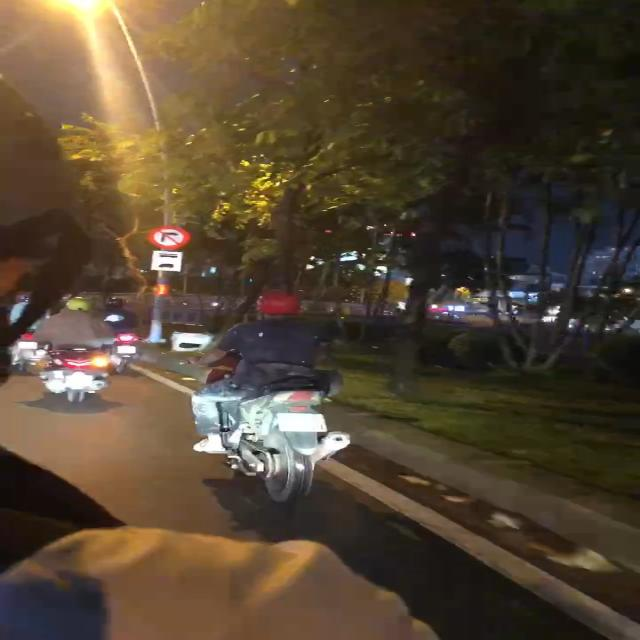Bien bao cam re phai: (146, 224, 188, 250)
